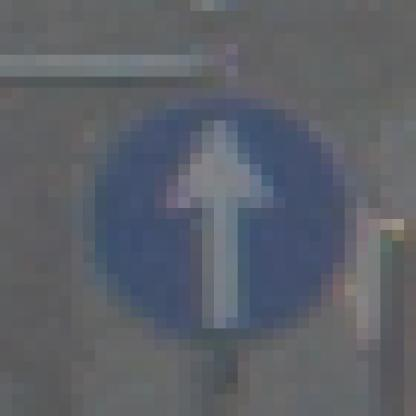AheadOnly: (61, 67, 358, 362)
